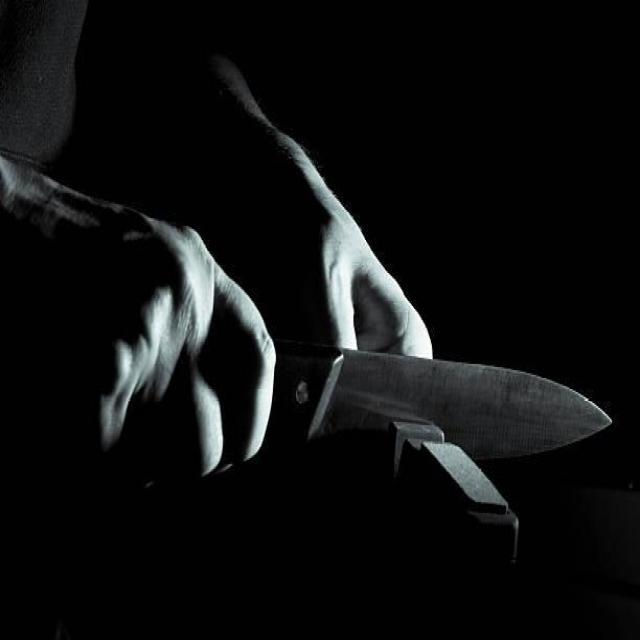faca: (29, 180, 616, 518)
